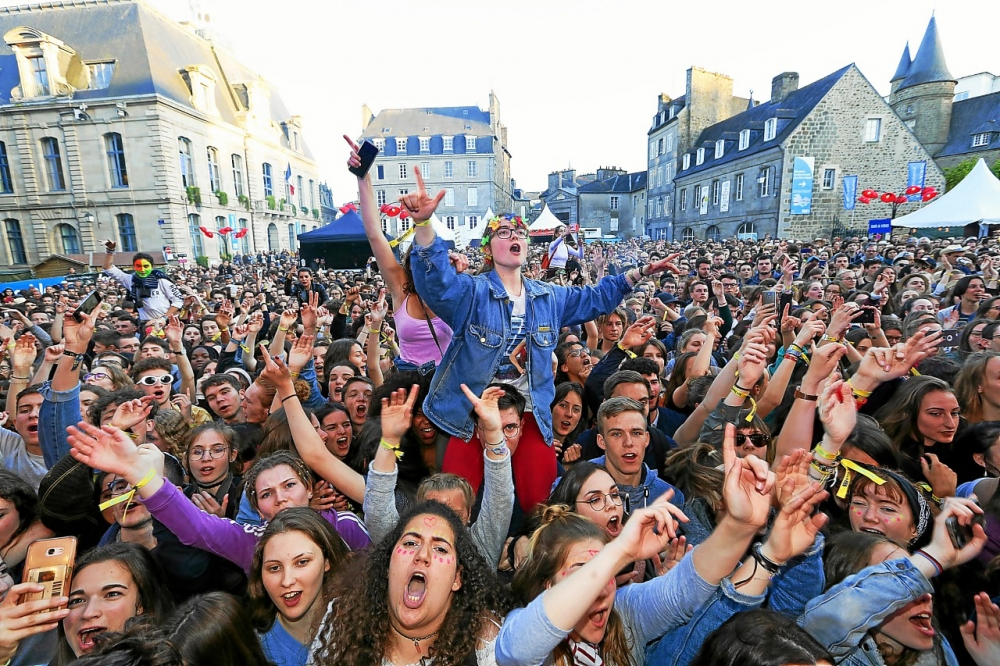without_mask: (401, 525, 452, 617), (262, 544, 319, 614), (71, 581, 131, 647), (850, 491, 913, 541), (578, 486, 625, 536), (605, 424, 646, 466), (256, 480, 304, 514), (493, 219, 529, 261), (924, 400, 959, 442), (188, 445, 229, 479), (241, 388, 269, 429), (19, 398, 46, 438), (324, 419, 350, 456), (205, 386, 239, 414), (141, 373, 174, 401), (346, 384, 372, 418), (556, 399, 582, 432), (569, 347, 595, 375), (327, 369, 350, 397), (347, 347, 368, 376), (645, 348, 666, 370), (963, 279, 984, 301), (603, 317, 624, 336), (693, 282, 709, 305), (722, 277, 738, 297), (204, 323, 221, 341), (136, 258, 150, 279), (809, 281, 823, 300), (908, 279, 927, 293), (182, 329, 198, 344), (843, 273, 857, 288), (123, 341, 138, 354), (760, 257, 772, 273), (298, 272, 310, 286), (834, 257, 846, 269)
